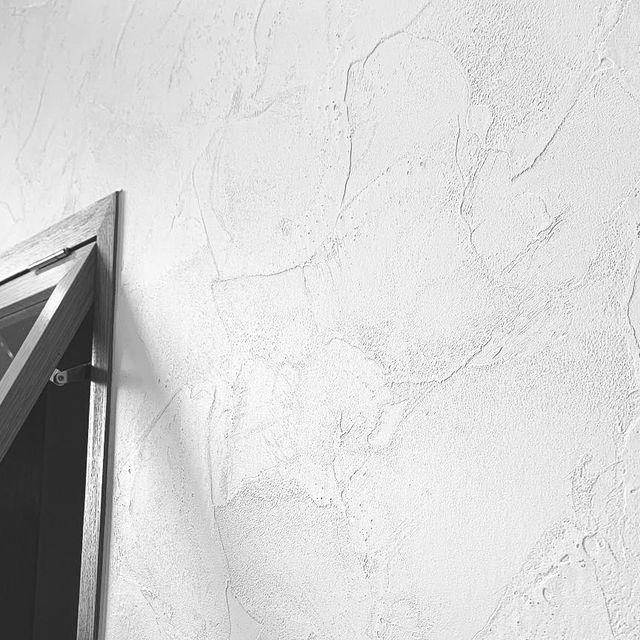trowels marks: (105, 0, 640, 640), (0, 0, 104, 246)
